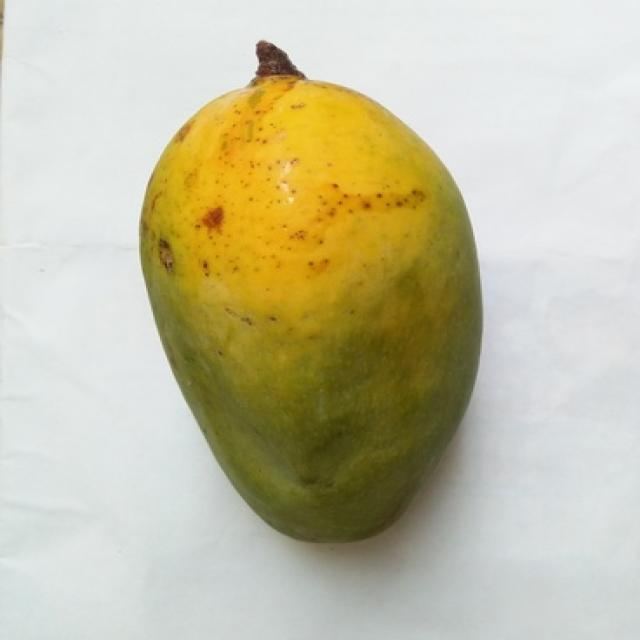Mango: (141, 73, 480, 540)
